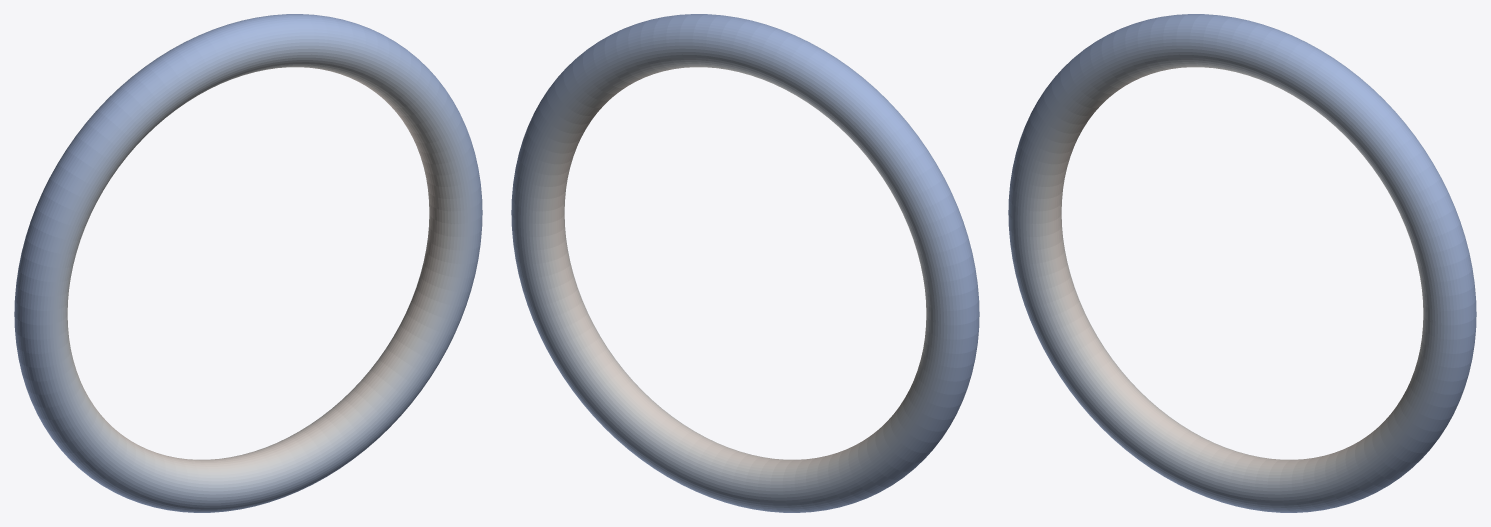
3 views of the same model, side by side, from view 1: azimuth 30°, elevation 25°; view 2: azimuth 150°, elevation 25°; view 3: azimuth 330°, elevation 25° (orthographic).
Parts seen in each view (by area): view 1: world; view 2: world; view 3: world.
Part boxes in pixels (left/top/right/bottom): world: left=14, top=14, right=482, bottom=512; world: left=511, top=14, right=979, bottom=512; world: left=1008, top=14, right=1476, bottom=512.
Size of the model in its own units: 33.33 by 33.33 by 3.33.
